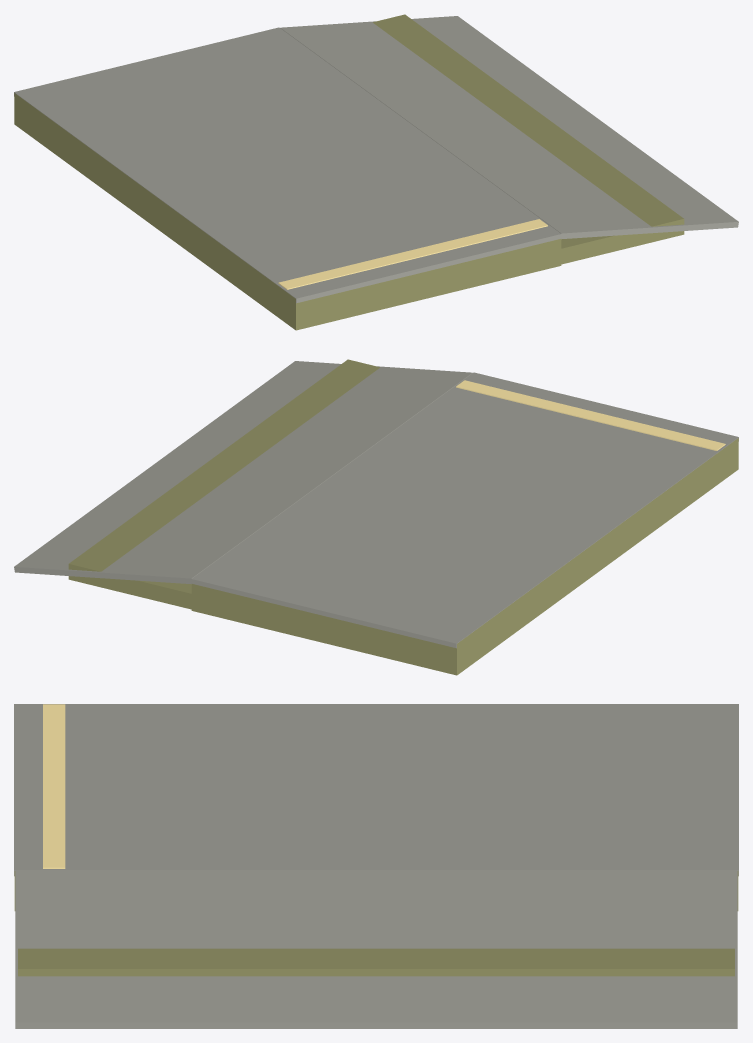
Rendered from SM_KitAnden_F11_v3_LOD1.fbx.
The picture shows the model from 3 angles, top to bottom: view 1: azimuth 30°, elevation 25°; view 2: azimuth 150°, elevation 25°; view 3: azimuth 270°, elevation 25°; orthographic projection. The views are drawn at different scales.
Visible parts, largest first — view 1: SM_kit_anden_v3_LOD1; view 2: SM_kit_anden_v3_LOD1; view 3: SM_kit_anden_v3_LOD1.
Boxes of the visible parts, <box> form: SM_kit_anden_v3_LOD1: <box>14,14,738,330</box>; SM_kit_anden_v3_LOD1: <box>14,359,738,675</box>; SM_kit_anden_v3_LOD1: <box>14,704,738,1028</box>.
Size of the model in its own units: 9.99 by 0.8192 by 11.02.
